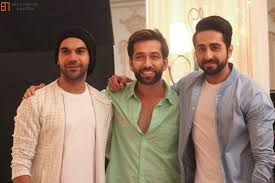Bad: (109, 16, 274, 182), (11, 27, 180, 183)
